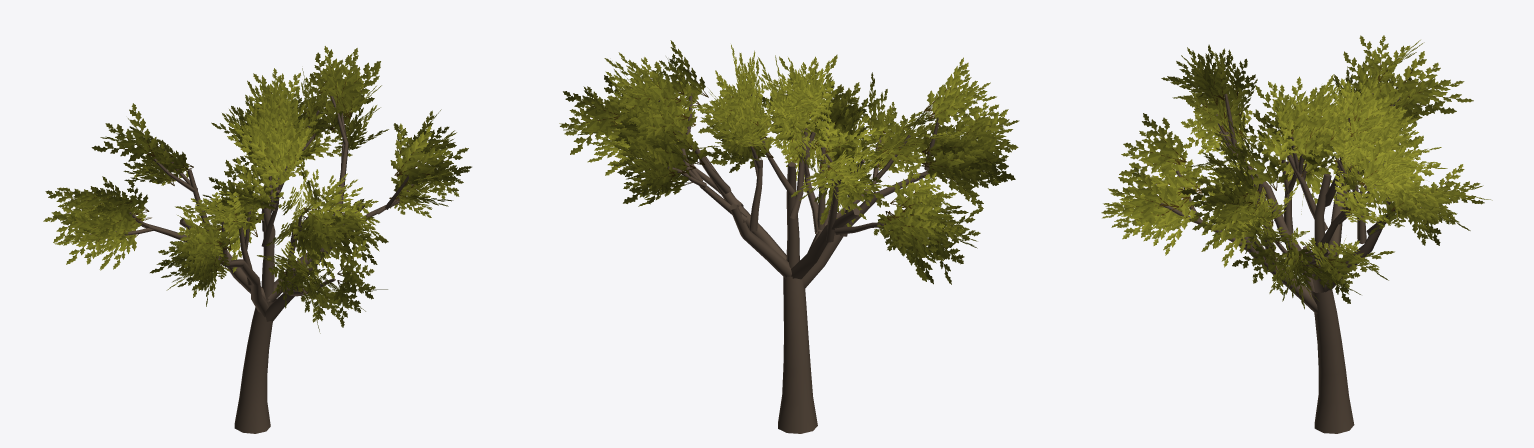
File: oak_3_burnt1.glb
3 renders of one model, left to right at view 1: azimuth 30°, elevation 25°; view 2: azimuth 150°, elevation 25°; view 3: azimuth 270°, elevation 25°, orthographic. The views are drawn at different scales.
Parts seen in each view (by area): view 1: oak_3_burnt1; view 2: oak_3_burnt1; view 3: oak_3_burnt1.
Part boxes in pixels (<box>): oak_3_burnt1: <box>43,46,471,433</box>; oak_3_burnt1: <box>559,40,1019,433</box>; oak_3_burnt1: <box>1101,35,1492,433</box>.
Size of the model in its own units: 11.83 by 9.43 by 9.64.
2 materials, 1 textured.
